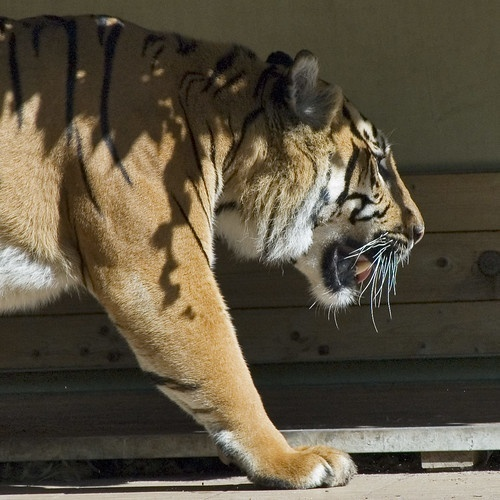tigre: (1, 11, 429, 491)
